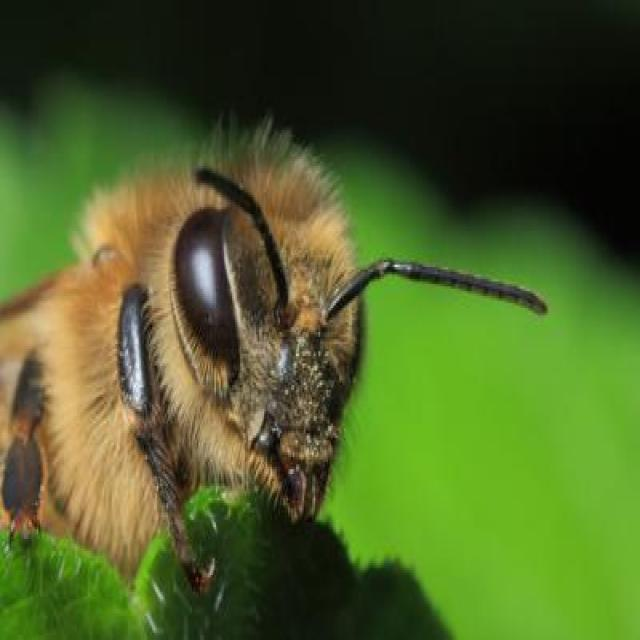antennae: (316, 244, 550, 334), (194, 160, 296, 315)
body: (0, 157, 365, 569)
insect: (0, 141, 552, 599)
legs: (114, 285, 208, 583), (3, 338, 58, 556)
mouthpart: (251, 331, 344, 523)
